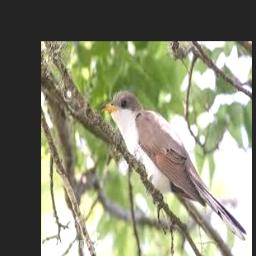Cuckoo: (99, 92, 247, 241)
